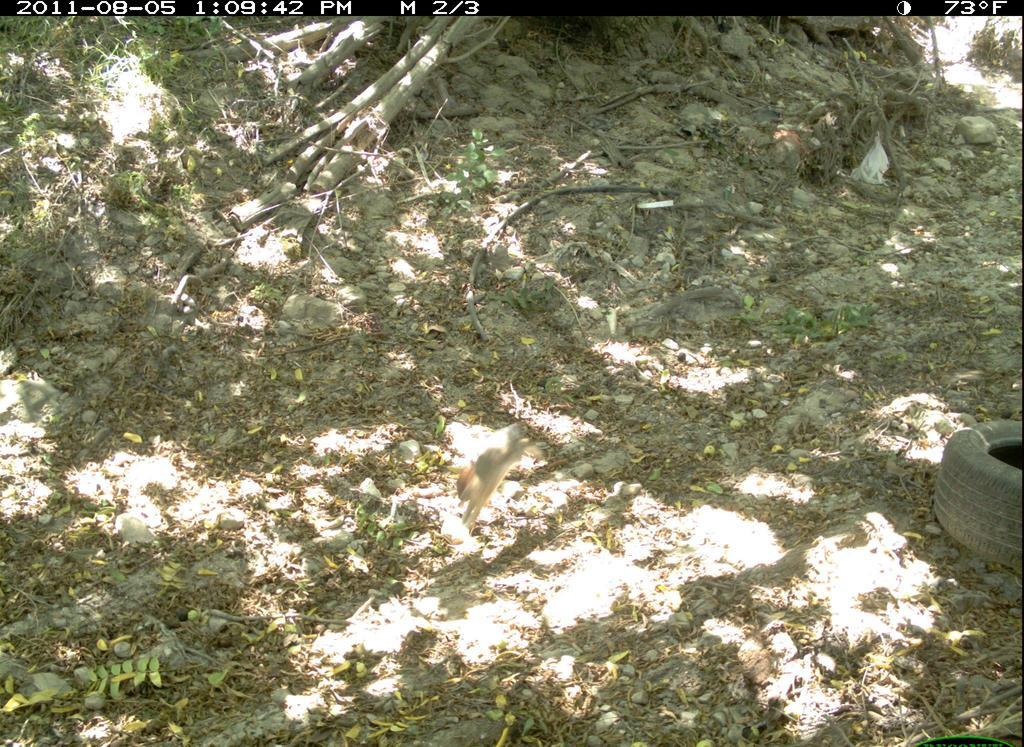rabbit: (438, 408, 546, 537)
